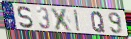3: (36, 7, 52, 31)
9: (108, 12, 124, 35)
I: (73, 9, 81, 32)
Q: (90, 11, 106, 34)
S: (17, 5, 34, 29)
X: (50, 7, 75, 33)
